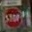stop: (2, 5, 22, 29)
